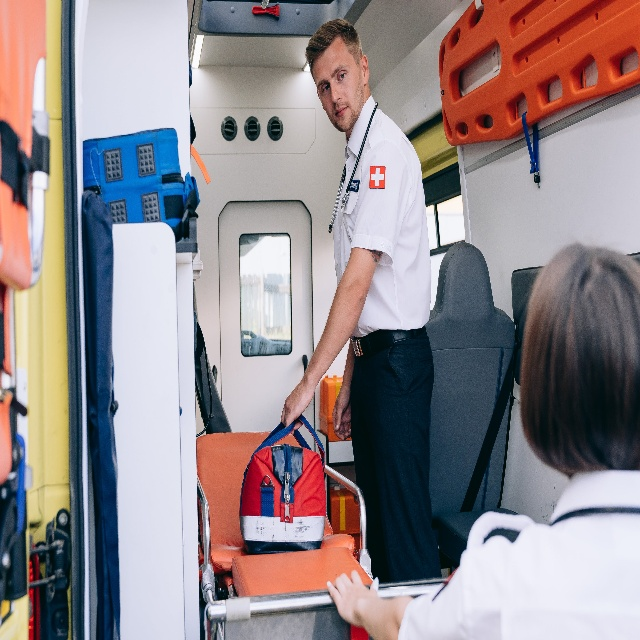Sin_guantes: (328, 568, 382, 628), (279, 377, 317, 431), (331, 388, 354, 440)
